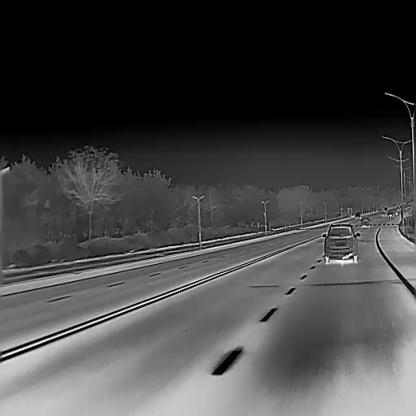car: (322, 223, 360, 262), (360, 217, 371, 227), (355, 210, 359, 217), (388, 212, 393, 217), (381, 212, 385, 216)
